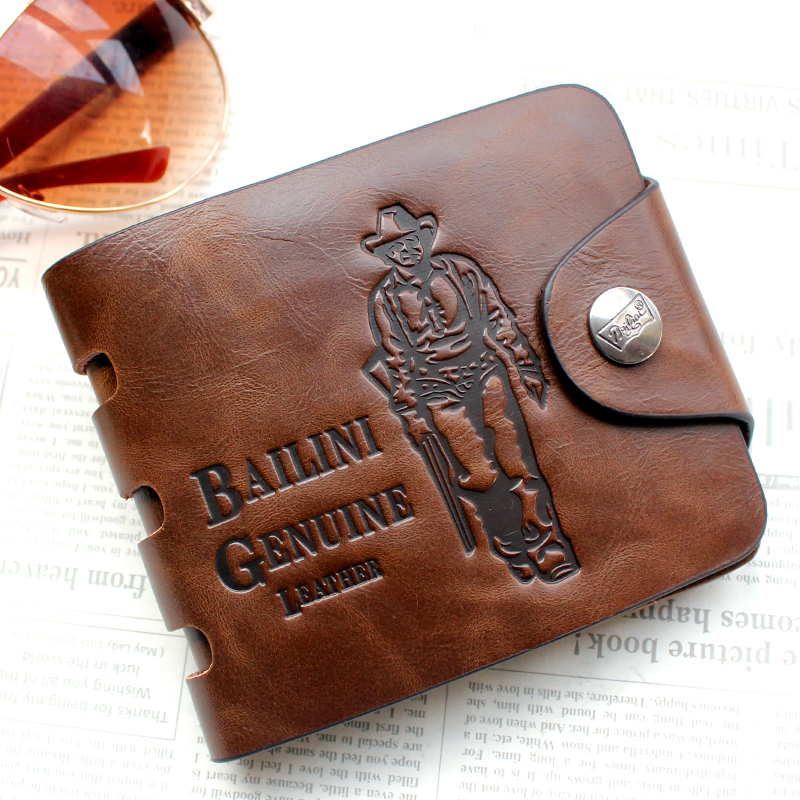monedero: (38, 78, 769, 765)
